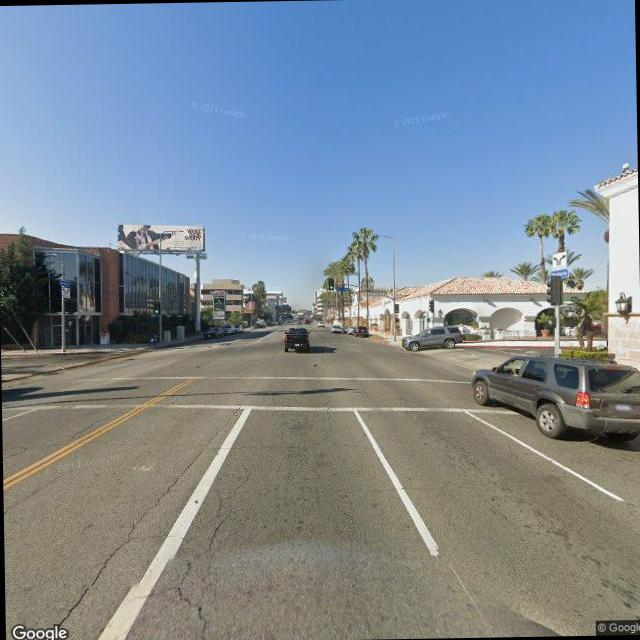crack: (124, 470, 253, 640)
pothole: (46, 402, 243, 640), (314, 381, 335, 441)
